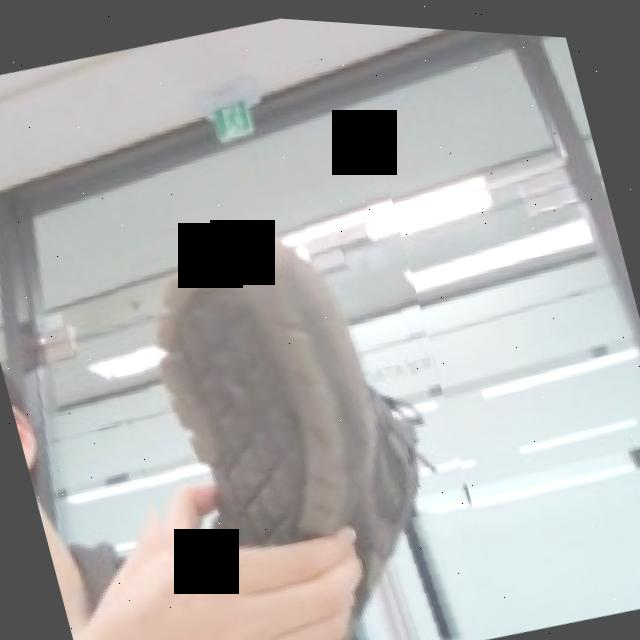shoe: (65, 153, 506, 640)
